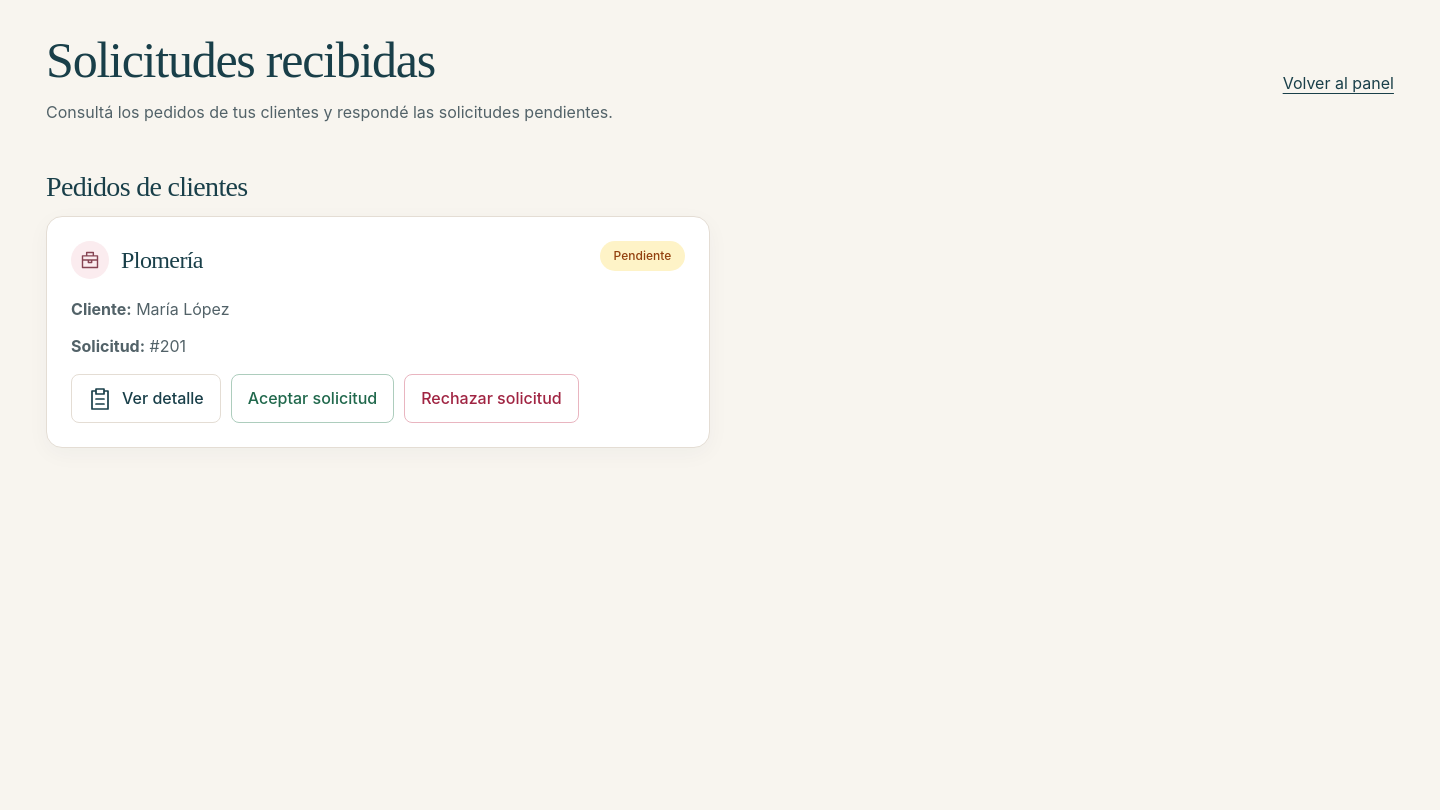
Test: F-13 - Pantalla de solicitudes del prestador › muestra el detalle de una solicitud
Click the button "Ver detalle" at (146, 399), box [71,374,221,423]
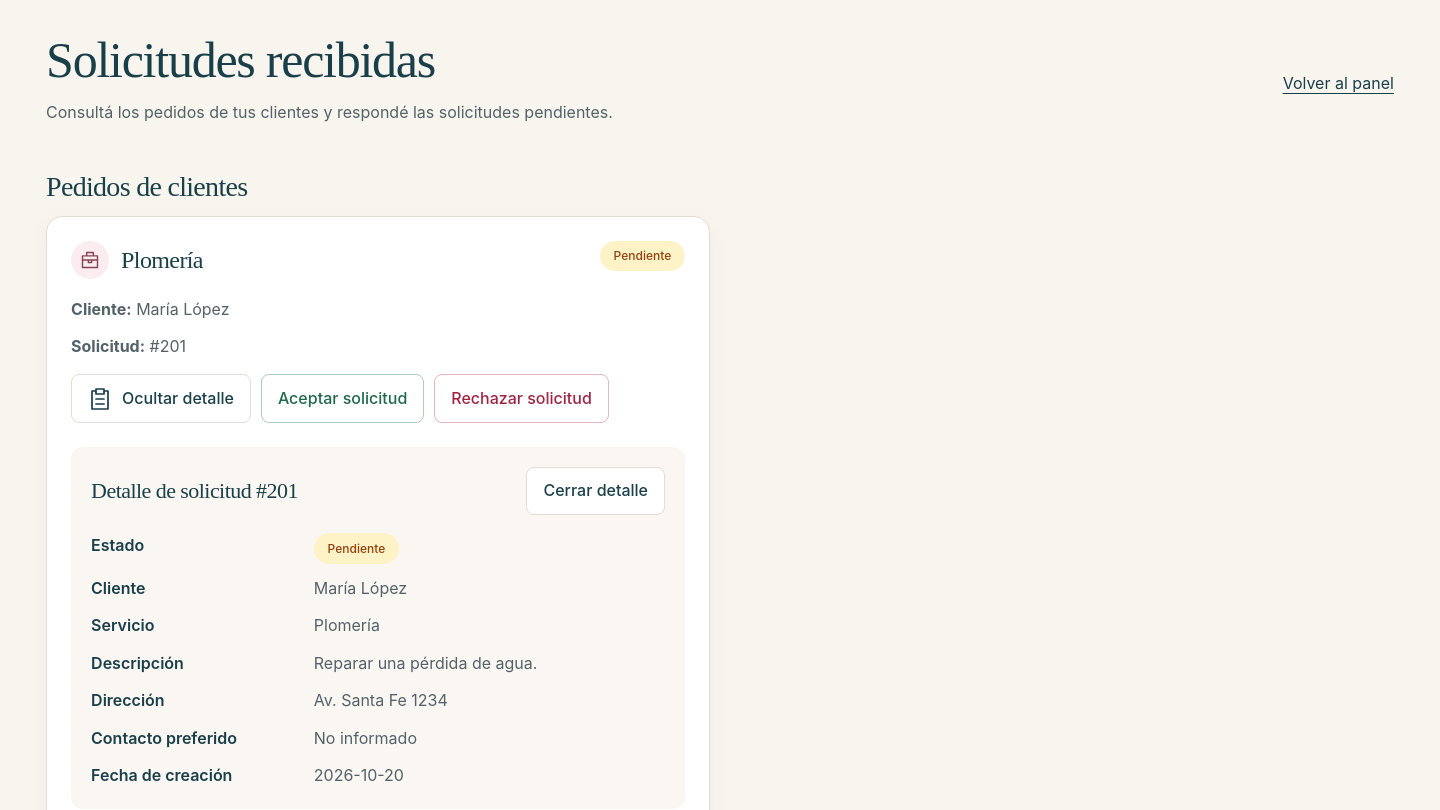
Expected: the text "Reparar una pérdida de agua." is shown, [314,653,537,673]
Expected: the text "Av. Santa Fe 1234" is shown, [314,690,448,710]
